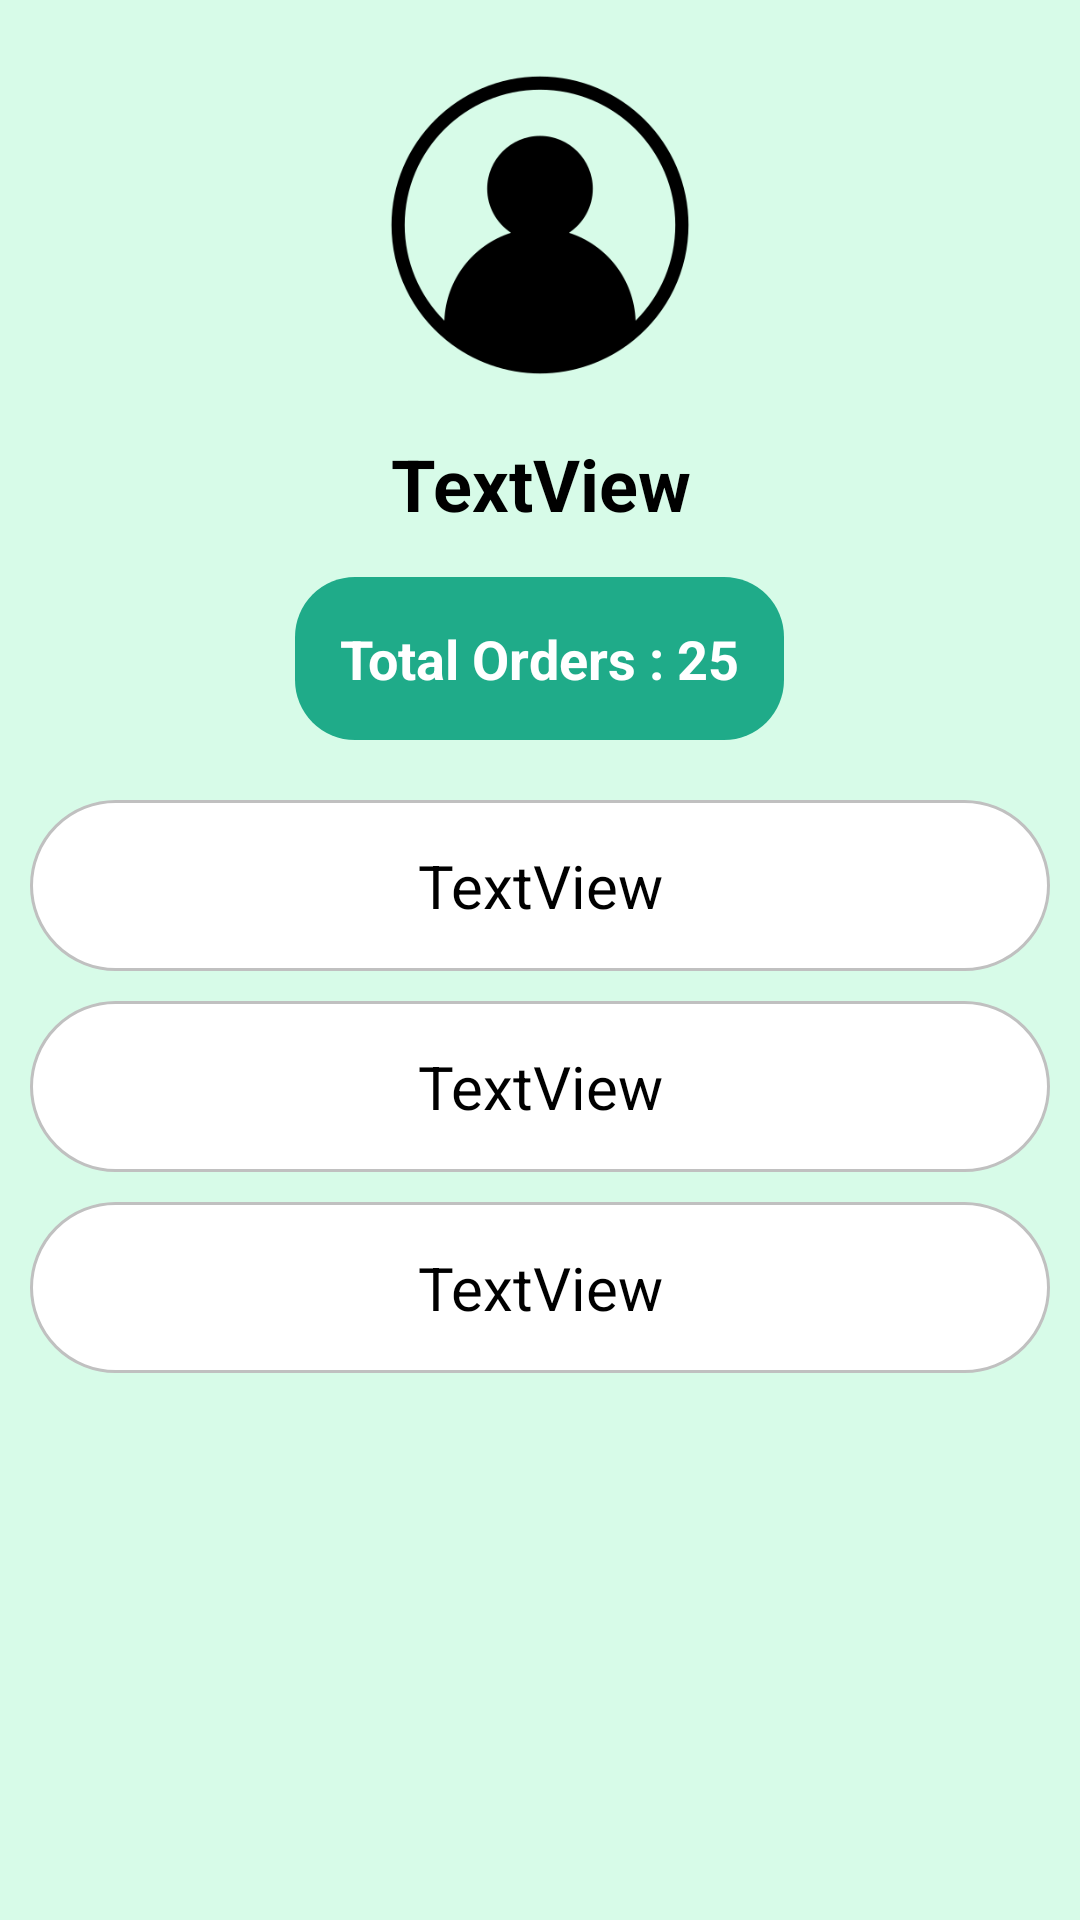

Named icons in this screenshot (1080 x 1920) and their bounding boxes, detection(x1, y1, x2, y2):
User: detection(391, 76, 689, 374)
